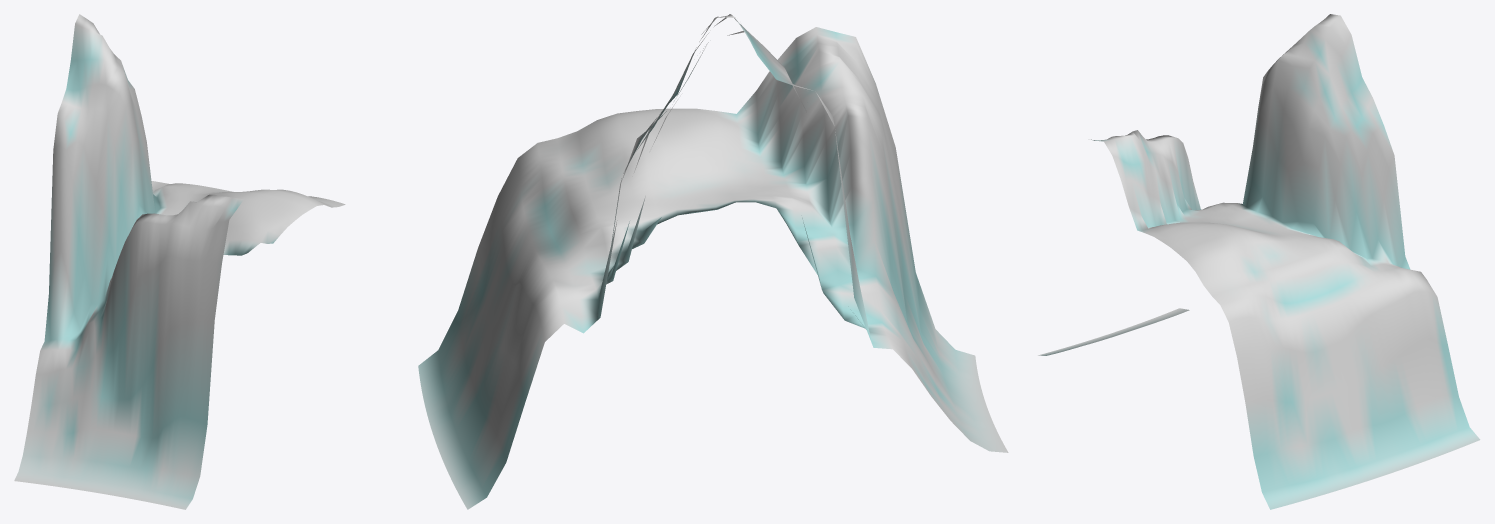
The model's file is middle_14.glb.
3 renders of one model, left to right at view 1: azimuth 30°, elevation 25°; view 2: azimuth 150°, elevation 25°; view 3: azimuth 270°, elevation 25°, orthographic. The views are drawn at different scales.
Parts seen in each view (by area): view 1: Mountain; view 2: Mountain; view 3: Mountain.
Boxes of the visible parts, x1=… form: Mountain: x1=14, y1=14, x2=345, y2=509; Mountain: x1=418, y1=14, x2=1008, y2=509; Mountain: x1=1038, y1=14, x2=1480, y2=509.
Size of the model in its own units: 661 by 555 by 613.
